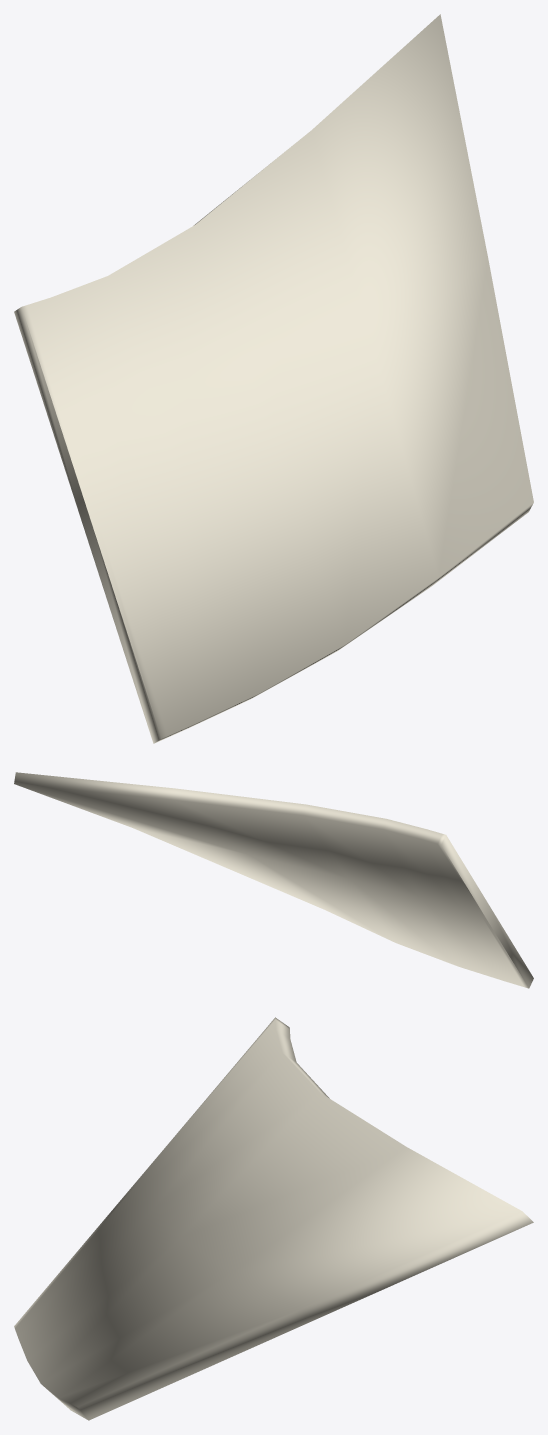
3 renders of one model, top to bottom at view 1: azimuth 30°, elevation 25°; view 2: azimuth 150°, elevation 25°; view 3: azimuth 270°, elevation 25°, orthographic. The views are drawn at different scales.
Parts seen in each view (by area): view 1: ZA_aa67b043dcc7d434; view 2: ZA_aa67b043dcc7d434; view 3: ZA_aa67b043dcc7d434.
Boxes of the visible parts, left/top/right/bottom form: ZA_aa67b043dcc7d434: left=14, top=14, right=533, bottom=743; ZA_aa67b043dcc7d434: left=14, top=772, right=533, bottom=988; ZA_aa67b043dcc7d434: left=14, top=1017, right=533, bottom=1420.
Size of the model in its own units: 0.0163 by 0.0114 by 0.0142.
